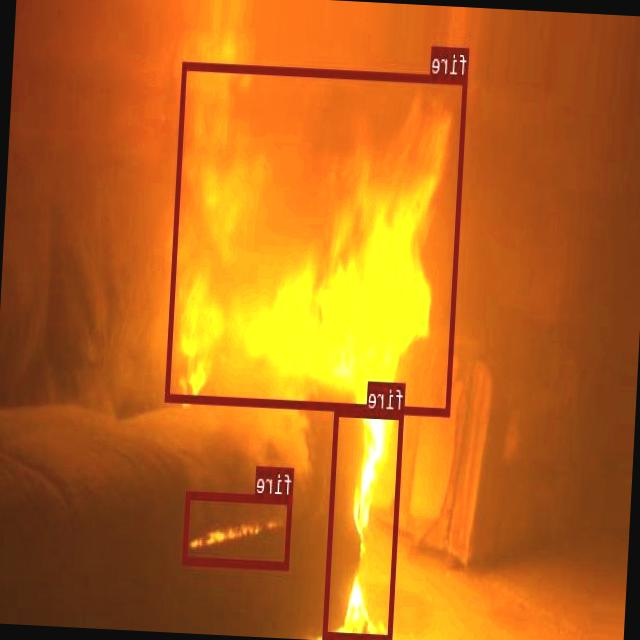fire: (166, 61, 468, 414), (324, 407, 405, 640), (183, 491, 294, 568)
